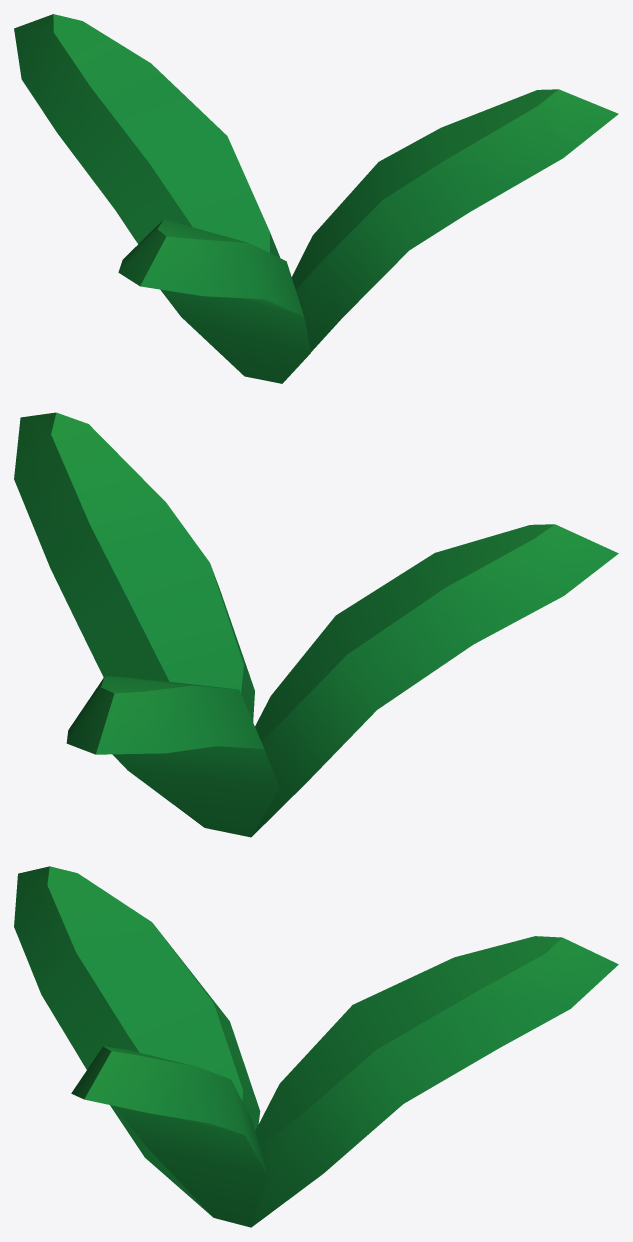
The model's file is Grass_B_1_.glb.
3 views of the same model, one above another, from view 1: azimuth 30°, elevation 25°; view 2: azimuth 150°, elevation 25°; view 3: azimuth 270°, elevation 25° (orthographic). The views are drawn at different scales.
Visible parts, largest first — view 1: Grass_B_1; view 2: Grass_B_1; view 3: Grass_B_1.
Boxes of the visible parts, box(x1,y1,x2,y2) form: Grass_B_1: box(14, 14, 618, 383); Grass_B_1: box(14, 412, 618, 837); Grass_B_1: box(14, 866, 618, 1227).
Size of the model in its own units: 0.3584 by 0.1853 by 0.3678.
Materials: 1 (1 with a texture image).
